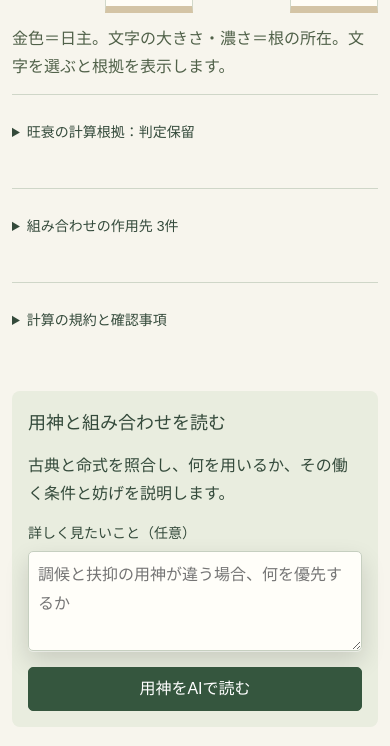
Test: 四柱推命 workspace › places the AI answer beside the question and clears it immediately for a different chart
(page scrolled)
Click the button "用神をAIで読む": point(195, 689) [28, 667, 362, 711]
(page scrolled)
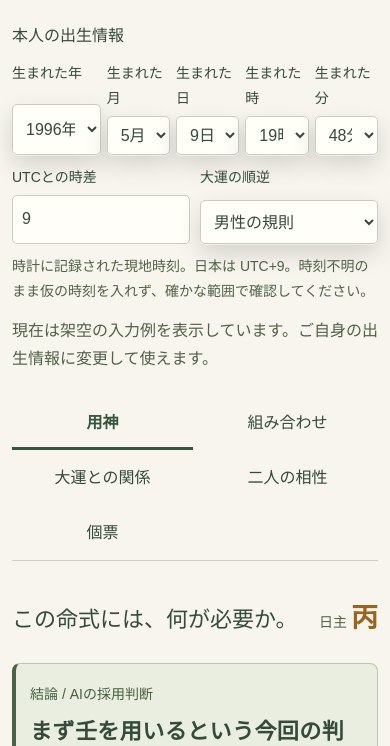
Select "1990年" in the dropdown named "本人の生まれた年": point(56, 129) [12, 104, 101, 155]
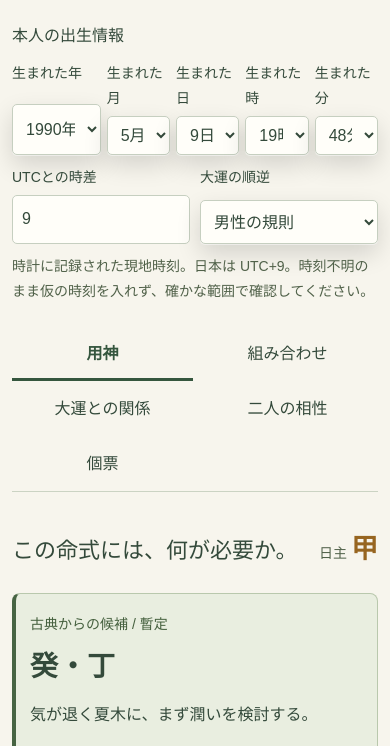
Select "1月" in the dropdown named "本人の生まれた月": point(138, 136) [107, 116, 170, 155]
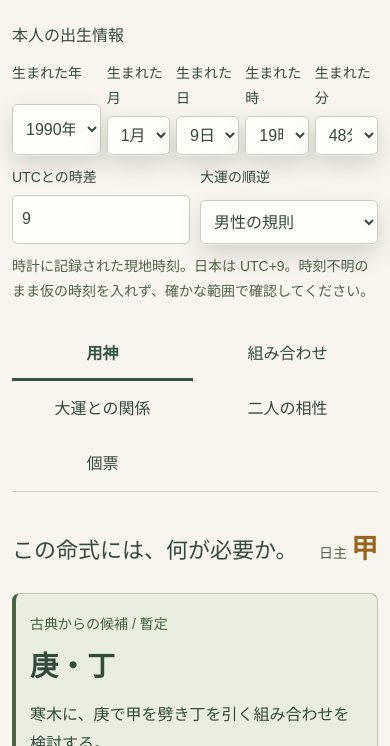
Select "15日" in the dropdown named "本人の生まれた日": point(208, 136) [176, 116, 239, 155]
(page scrolled)
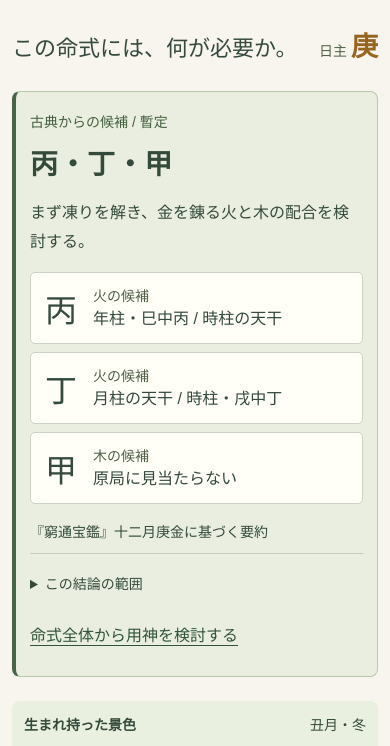
Now the element with class "bazi-answer-heading" does not show "まず壬を用いるという今回の判断。"
Now the element with class "bazi-answer-heading" shows "丙・丁・甲", box [30, 149, 173, 180]
